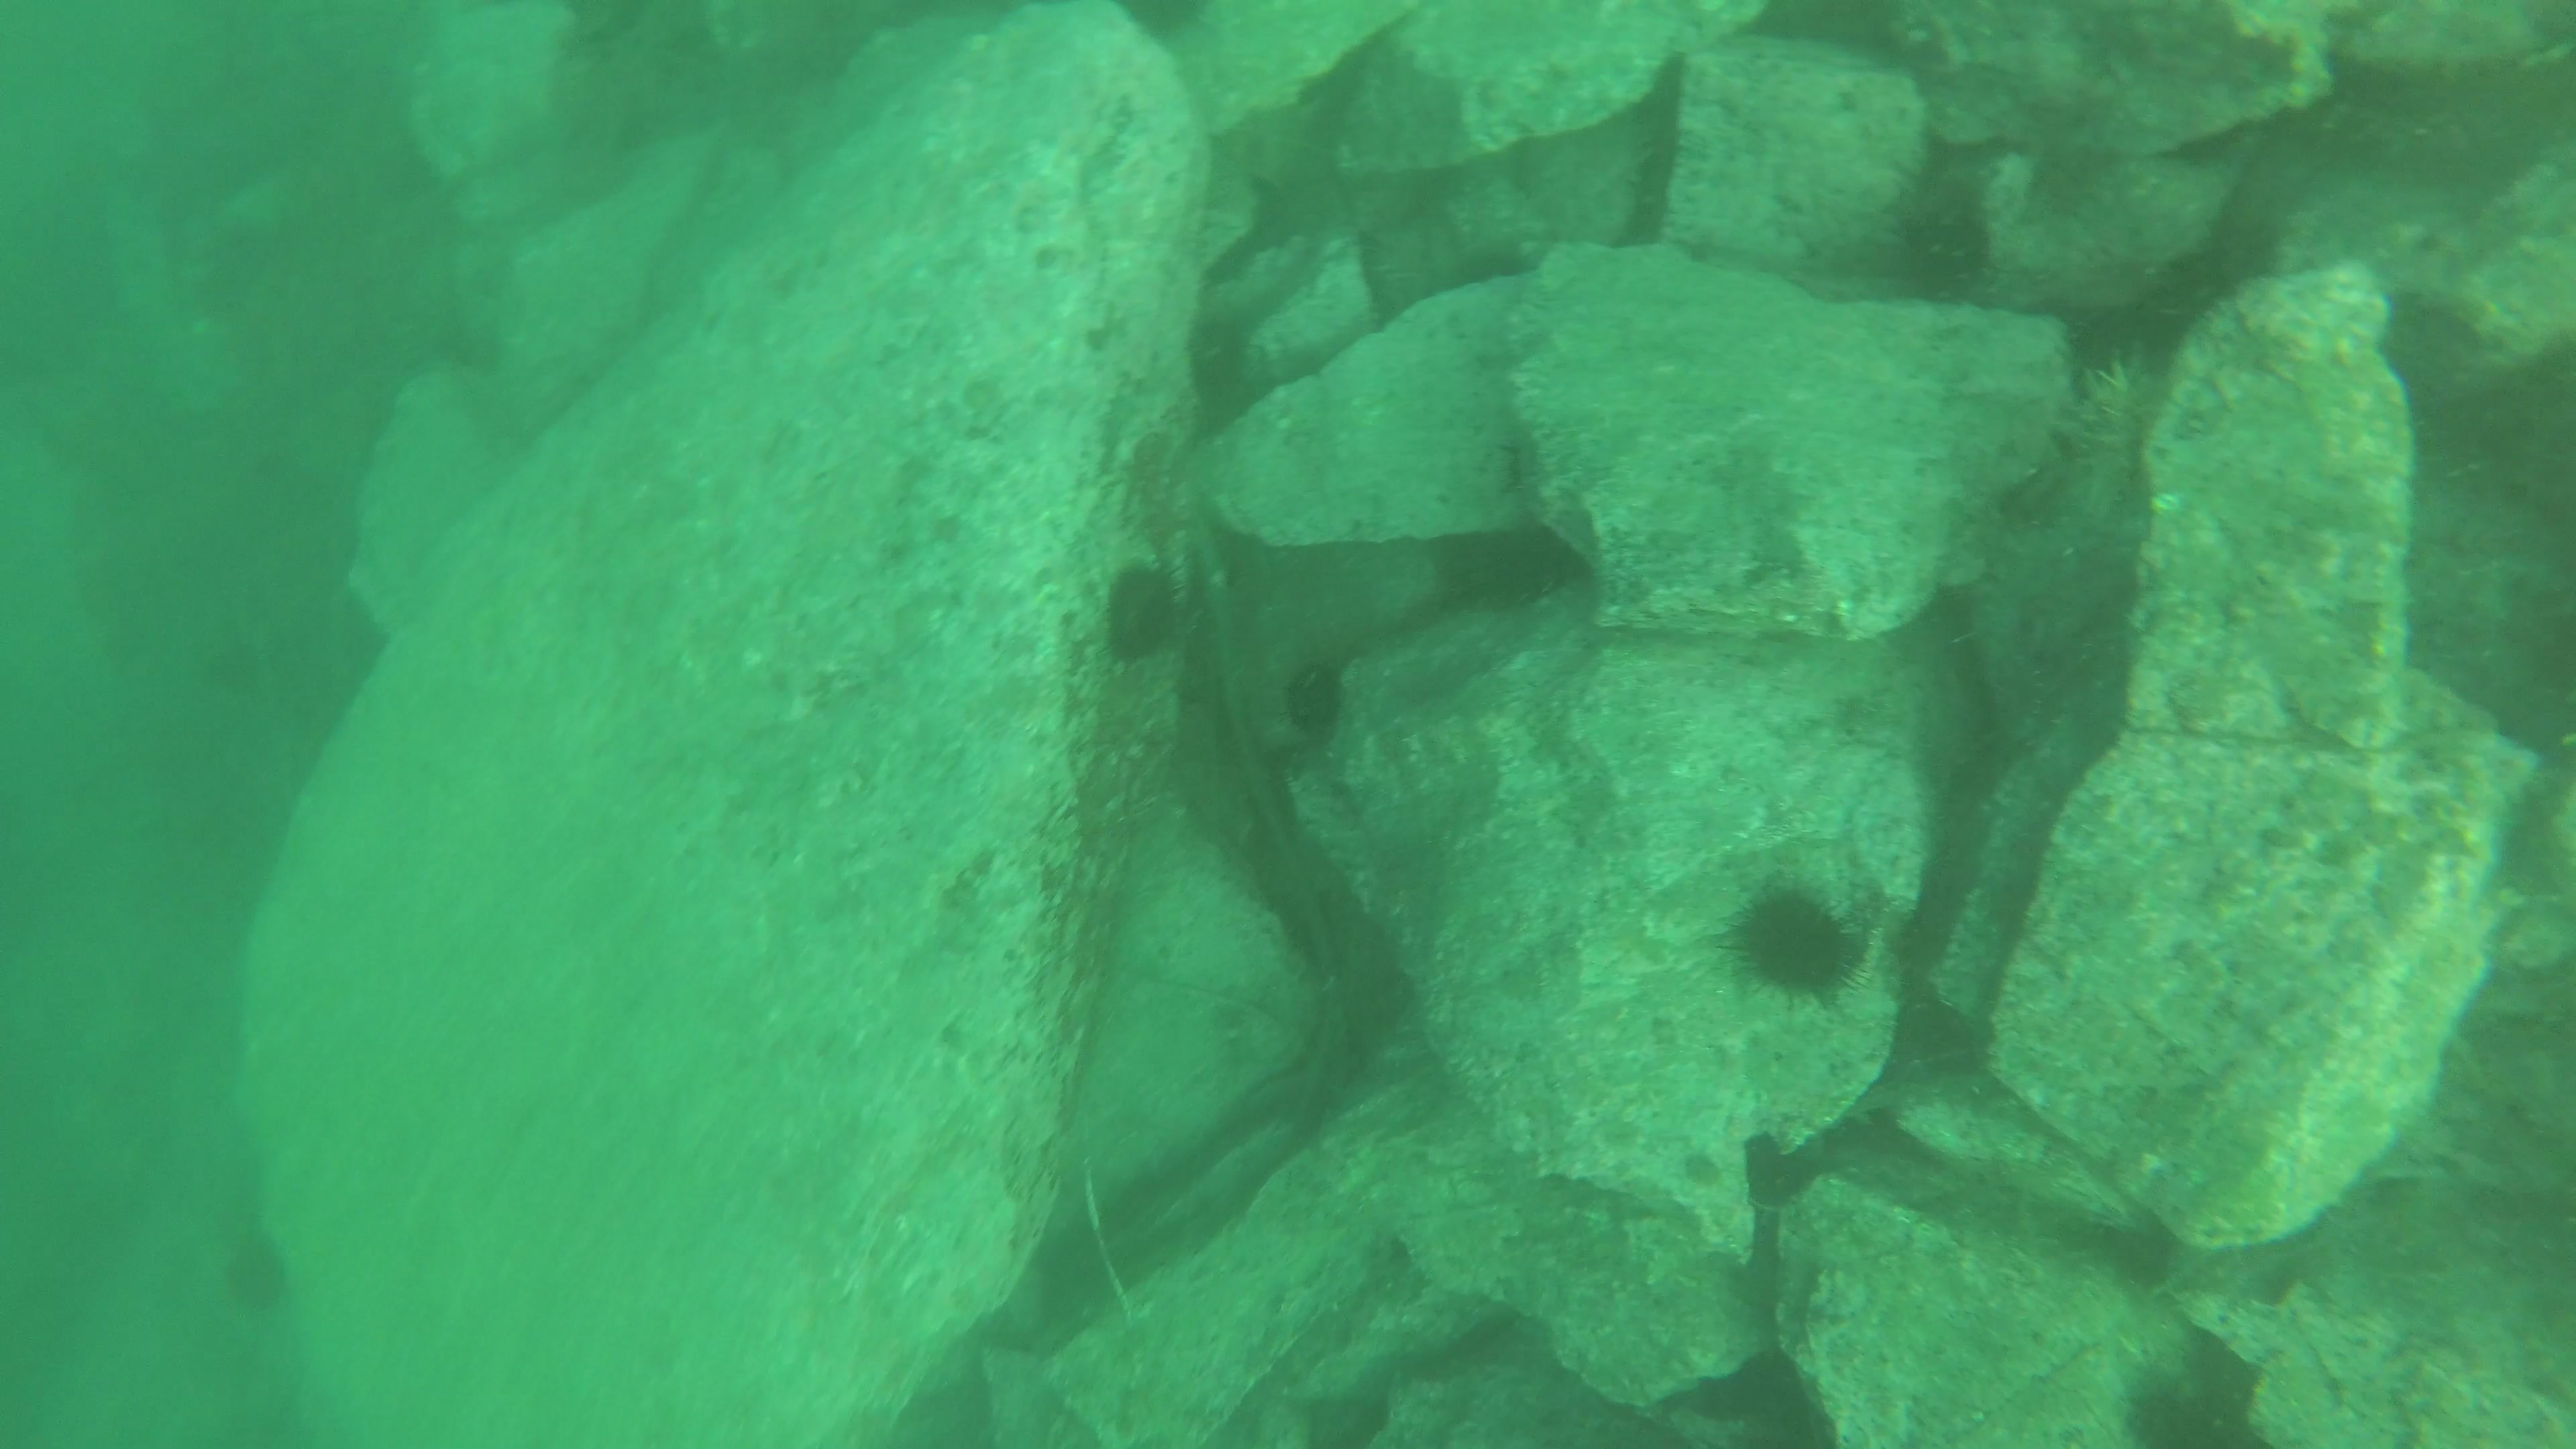echinus: (1737, 888, 1852, 1001), (1102, 564, 1180, 663), (219, 1240, 290, 1316), (1279, 658, 1346, 738)
